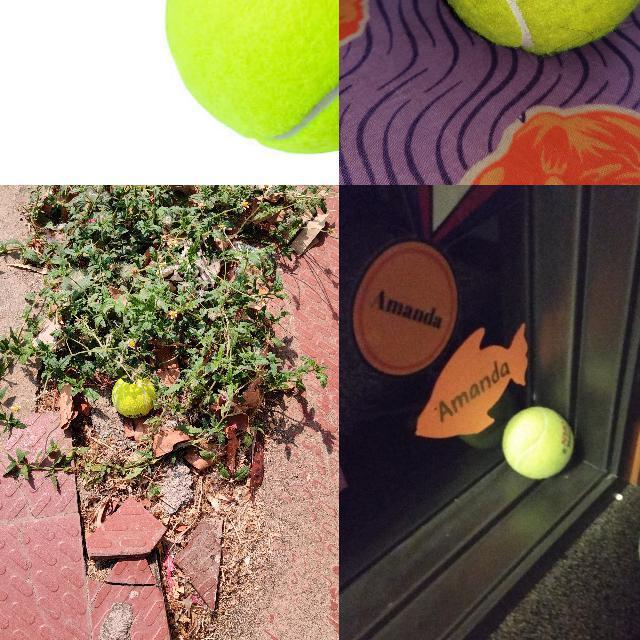tennis-ball: (165, 0, 338, 157), (425, 0, 639, 57), (501, 406, 575, 480), (112, 385, 153, 418)
